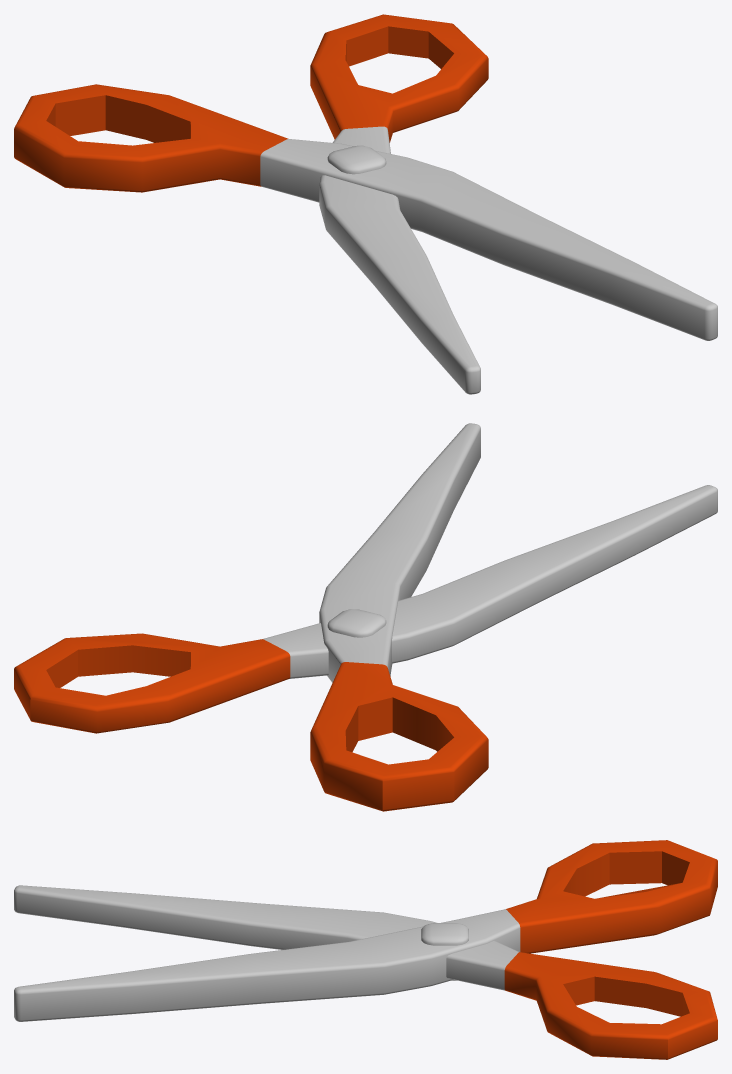
The model's file is Cutter_1.fbx.
3 views of the same model, one above another, from view 1: azimuth 30°, elevation 25°; view 2: azimuth 150°, elevation 25°; view 3: azimuth 270°, elevation 25° (orthographic). The views are drawn at different scales.
Parts seen in each view (by area): view 1: Cutter_1; view 2: Cutter_1; view 3: Cutter_1.
Part boxes in pixels (x1,y1,x2,y2): Cutter_1: (14, 14, 717, 394); Cutter_1: (14, 423, 717, 811); Cutter_1: (14, 840, 717, 1059).
Bounding box in the file's own units: 0.1267 × 0.0133 × 0.1935.
